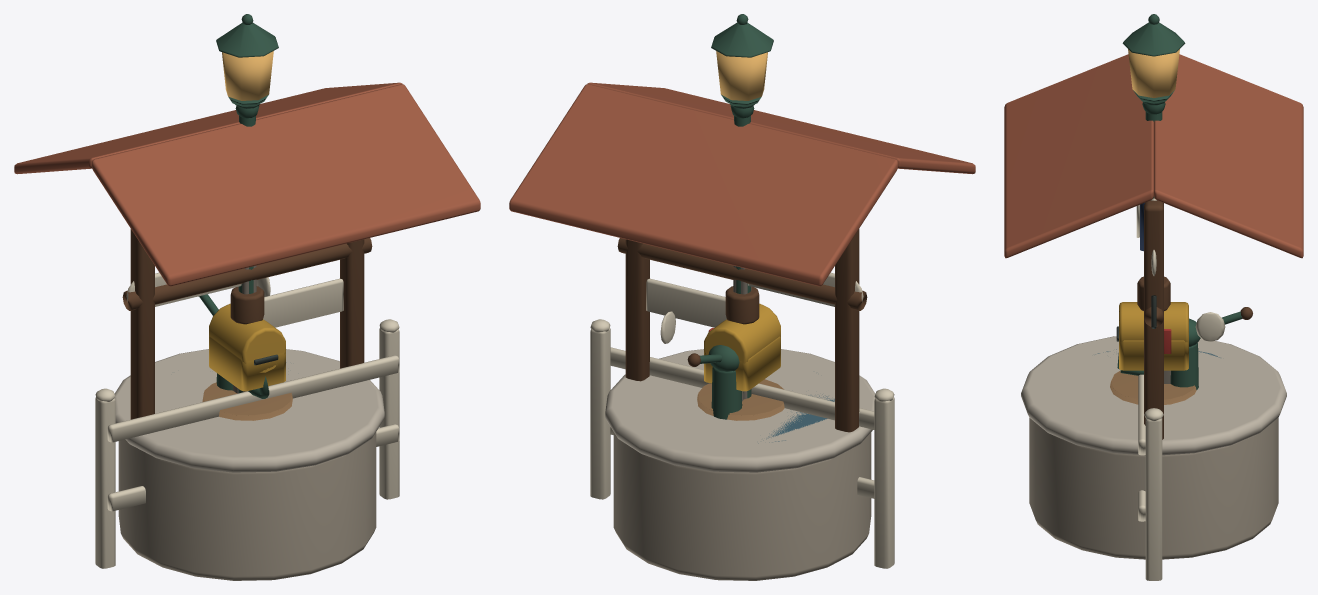
File: street.glb
3 renders of one model, left to right at view 1: azimuth 30°, elevation 25°; view 2: azimuth 150°, elevation 25°; view 3: azimuth 270°, elevation 25°, orthographic. The views are drawn at different scales.
Visible parts, largest first — view 1: well_mesh, fence_mesh, mailbox_mesh, street-lamp_mesh, signpost_mesh, barrel_mesh, water-pump_mesh; view 2: well_mesh, fence_mesh, street-lamp_mesh, mailbox_mesh, signpost_mesh, water-pump_mesh, barrel_mesh; view 3: well_mesh, fence_mesh, street-lamp_mesh, mailbox_mesh, water-pump_mesh, barrel_mesh, signpost_mesh, platform-sign_mesh.
Boxes of the visible parts, x1=… form: well_mesh: x1=14, y1=82, x2=480, y2=580; fence_mesh: x1=95, y1=319, x2=399, y2=568; mailbox_mesh: x1=209, y1=303, x2=285, y2=393; street-lamp_mesh: x1=216, y1=14, x2=278, y2=393; signpost_mesh: x1=126, y1=265, x2=343, y2=392; barrel_mesh: x1=202, y1=382, x2=292, y2=420; water-pump_mesh: x1=198, y1=294, x2=269, y2=398; well_mesh: x1=509, y1=82, x2=975, y2=580; fence_mesh: x1=590, y1=319, x2=894, y2=568; street-lamp_mesh: x1=711, y1=14, x2=773, y2=398; mailbox_mesh: x1=704, y1=303, x2=780, y2=401; signpost_mesh: x1=646, y1=265, x2=863, y2=399; water-pump_mesh: x1=687, y1=345, x2=743, y2=419; barrel_mesh: x1=697, y1=379, x2=784, y2=420; well_mesh: x1=1004, y1=54, x2=1303, y2=559; fence_mesh: x1=1138, y1=374, x2=1163, y2=580; street-lamp_mesh: x1=1122, y1=14, x2=1185, y2=105; mailbox_mesh: x1=1116, y1=302, x2=1188, y2=383; water-pump_mesh: x1=1117, y1=307, x2=1252, y2=389; barrel_mesh: x1=1110, y1=370, x2=1196, y2=404; signpost_mesh: x1=1150, y1=198, x2=1225, y2=341; platform-sign_mesh: x1=1136, y1=102, x2=1165, y2=251.
Size of the model in its own units: 2.1 by 3.3 by 1.8.
